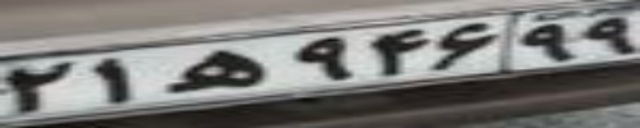1: (86, 58, 136, 104)
2: (7, 61, 72, 112)
4: (372, 28, 428, 75)
6: (434, 22, 493, 70)
9: (294, 36, 349, 79), (520, 23, 572, 61), (585, 17, 632, 53)
he: (166, 48, 264, 91)
